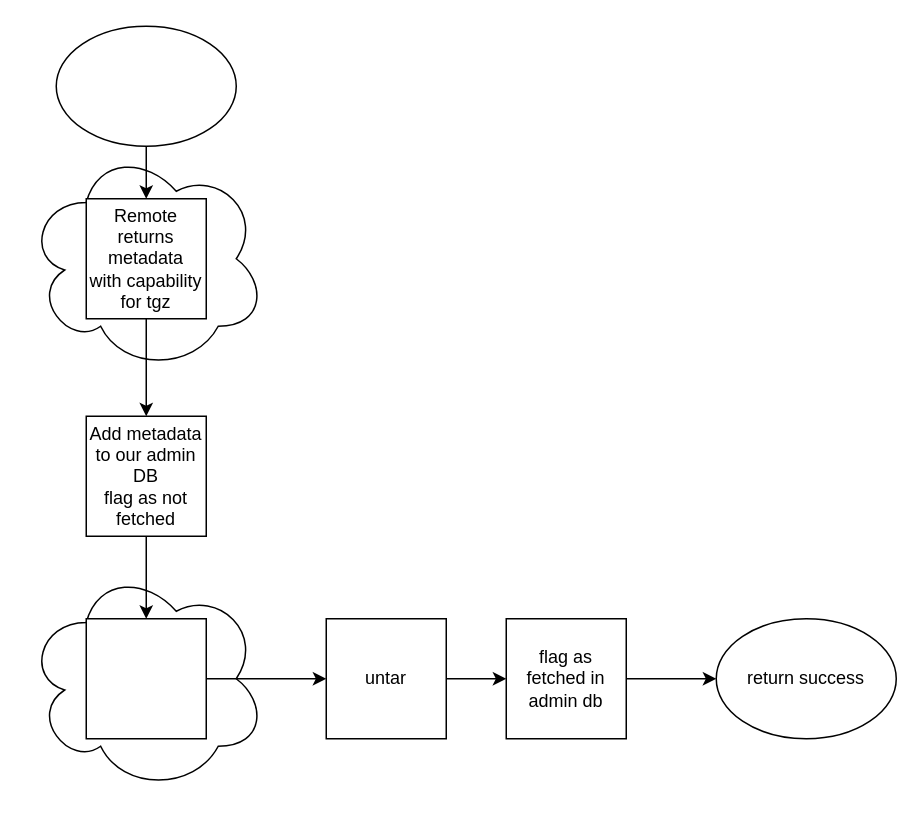
Image size: 923x818. Some labels were removed from this diagram. The box of each missing label's shape, as (x1, y1, x2, y2) in pixels:
fetches tgz: (85, 617, 206, 739)
get clone request remote URI: (55, 25, 236, 146)
